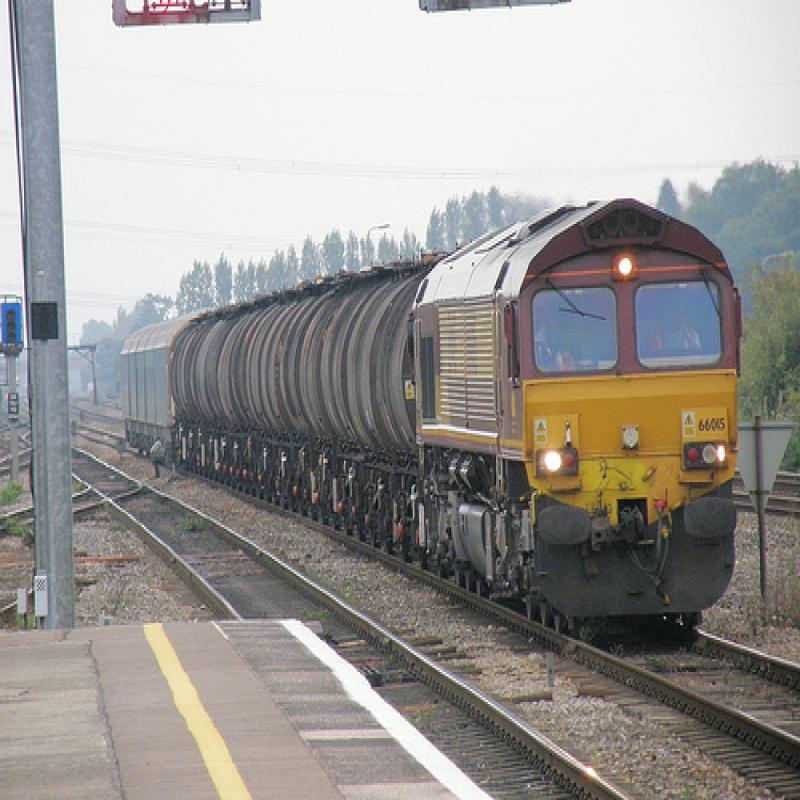train: (120, 197, 749, 641)
